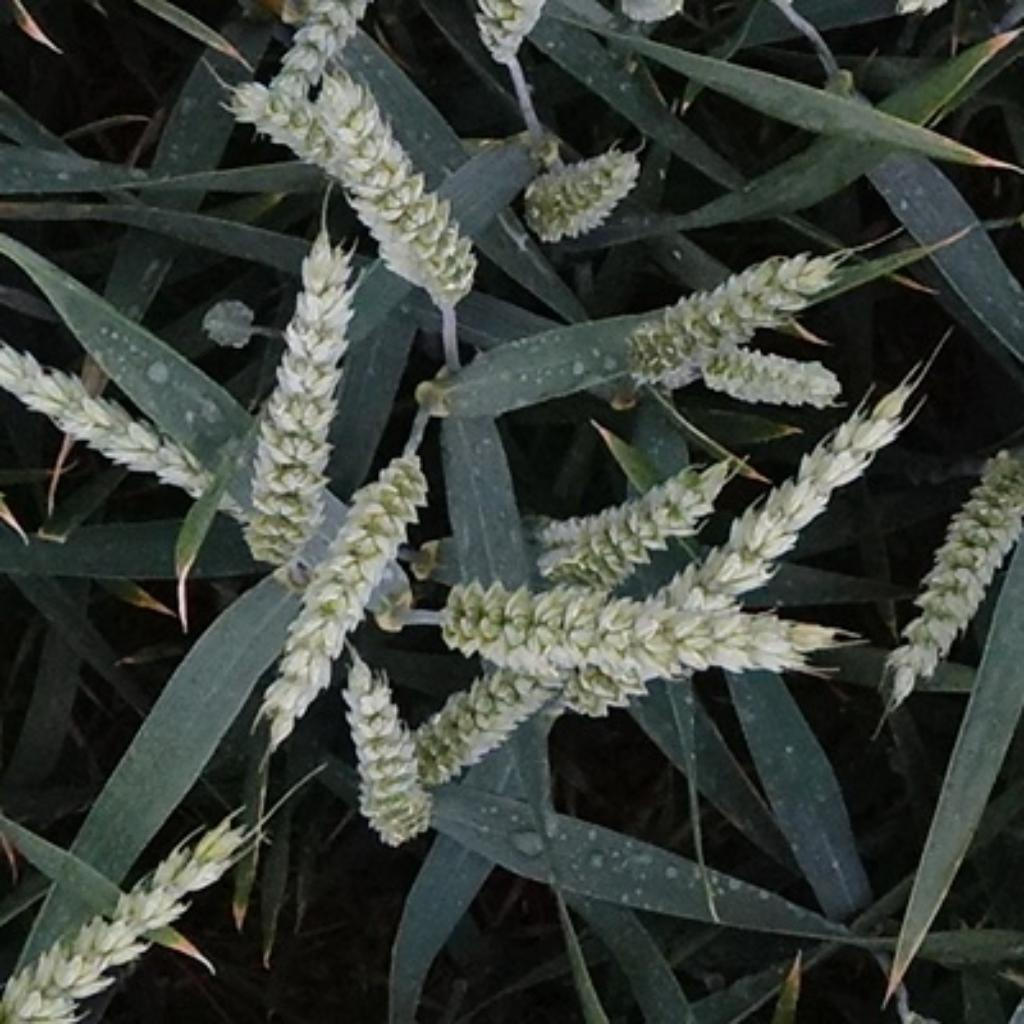0-0: (655, 379, 944, 616), (227, 437, 432, 755), (227, 202, 376, 591), (0, 805, 254, 1024), (430, 575, 863, 699), (312, 84, 501, 307), (878, 427, 1024, 713), (620, 232, 868, 390), (2, 340, 212, 514), (404, 645, 578, 788), (524, 453, 727, 573), (332, 657, 440, 853), (509, 141, 644, 248), (227, 66, 360, 174), (689, 341, 853, 415), (279, 0, 412, 84), (468, 0, 547, 67), (193, 284, 262, 353)
